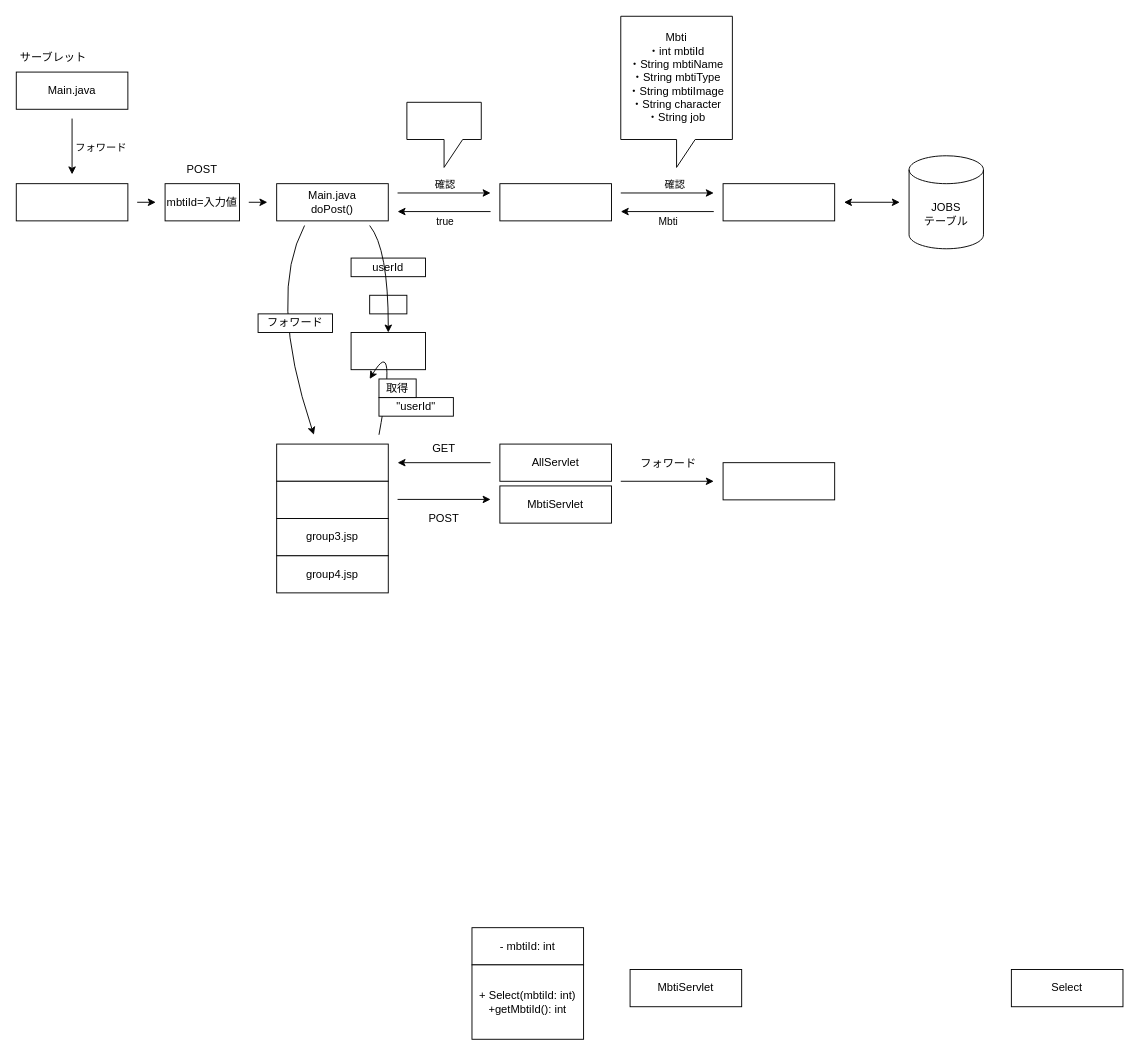
Image size: 1139x1056. Some labels were removed from this diagram. The shapes that lost their labels are listed below. From the top down, each one's centre as x and y in pixels, then its label:
At (443,134): "[フィールド] ・int mbtiId".
At (71,202): "top.jsp".
At (555,202): "SelectLogic execute()".
At (778,202): "MbtiDAO findByLogin()".
At (388,304): "保存".
At (387,351): "セッション スコープ".
At (332,462): "group1.jsp".
At (778,481): "all.jsp".
At (332,499): "group2.jsp".
